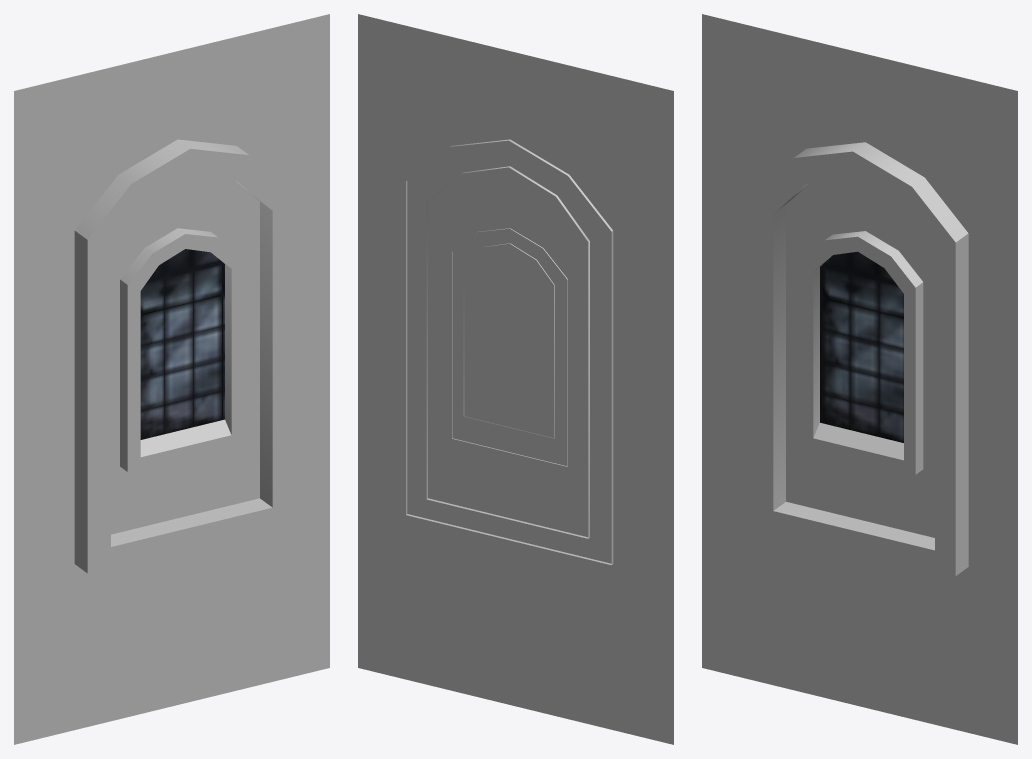
Rendered from SM_zhucheng_qiang02.FBX.
The picture shows the model from 3 angles, left to right: view 1: azimuth 30°, elevation 25°; view 2: azimuth 150°, elevation 25°; view 3: azimuth 330°, elevation 25°; orthographic projection.
Visible parts, largest first — view 1: SM_zhucheng_qiang02a, SM_zhucheng_qiang02b; view 2: SM_zhucheng_qiang02a; view 3: SM_zhucheng_qiang02a, SM_zhucheng_qiang02b.
Part boxes in pixels (x1=…): SM_zhucheng_qiang02a: x1=14, y1=14, x2=329, y2=744; SM_zhucheng_qiang02b: x1=140, y1=249, x2=224, y2=439; SM_zhucheng_qiang02a: x1=358, y1=14, x2=673, y2=744; SM_zhucheng_qiang02a: x1=702, y1=14, x2=1017, y2=744; SM_zhucheng_qiang02b: x1=820, y1=251, x2=903, y2=442.
Size of the model in its own units: 357 by 706 by 28.
